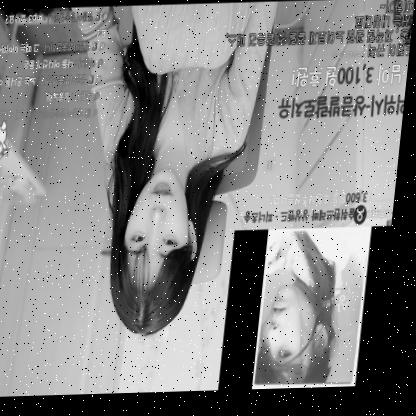donation: (223, 191, 400, 410), (277, 64, 409, 126)
streamer: (44, 2, 278, 340)
